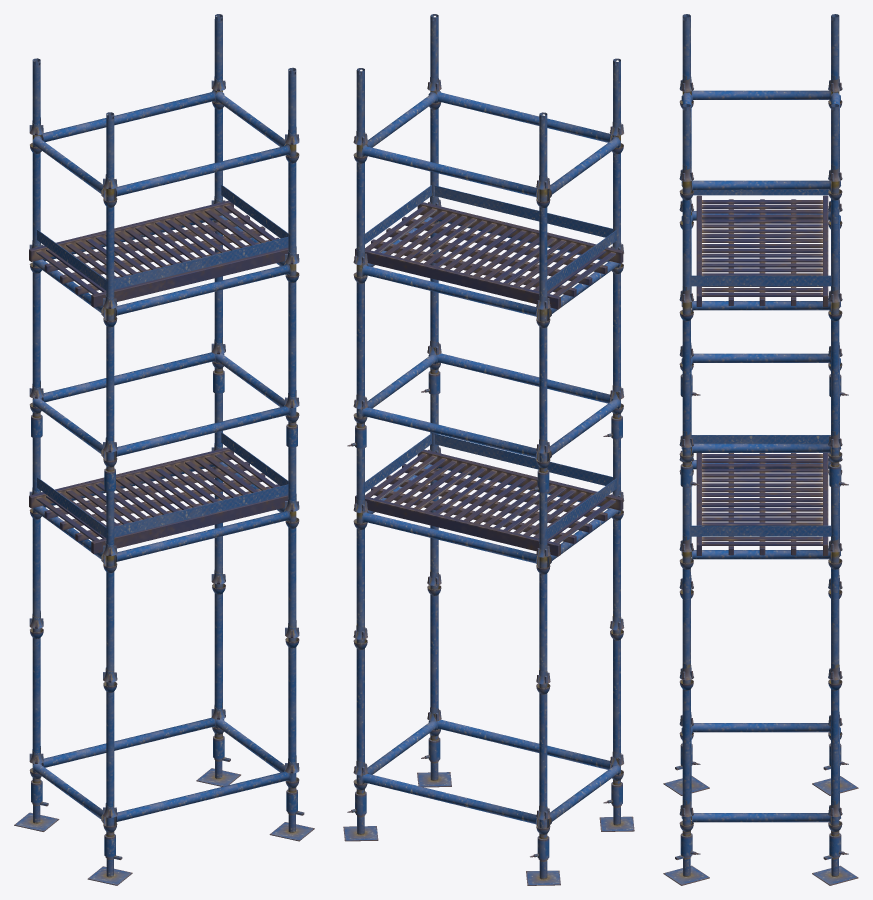
The model's file is Scaffold-01 (1).fbx.
The picture shows the model from 3 angles, left to right: view 1: azimuth 30°, elevation 25°; view 2: azimuth 150°, elevation 25°; view 3: azimuth 270°, elevation 25°; orthographic projection.
Parts seen in each view (by area): view 1: Scaffold Floor.001, Scaffold Floor, Scaffold_vertical bar.021, Scaffold_vertical bar.023, Scaffold_vertical bar.001, Scaffold_vertical bar.004, Scaffold_vertical bar.007, Scaffold_vertical bar.025, Scaffold_vertical bar.010, Scaffold_vertical bar.027, Toe Board, Toe Board.003 (+22 smaller); view 2: Scaffold Floor.001, Scaffold Floor, Scaffold_vertical bar.025, Scaffold_vertical bar.027, Scaffold_vertical bar.007, Scaffold_vertical bar.010, Scaffold_vertical bar.021, Scaffold_vertical bar.001, Scaffold_vertical bar.004, Scaffold_vertical bar.023, Toe Board.003, Toe Board (+22 smaller); view 3: Scaffold Floor.001, Scaffold Floor, Scaffold_vertical bar.027, Scaffold_vertical bar.023, Scaffold_vertical bar.010, Scaffold_vertical bar.004, Toe Board.004, Toe Board.002, Scaffold_horizontal bar.014, Scaffold_horizontal bar.012, Scaffold_horizontal bar.002, Scaffold_horizontal bar.010 (+13 smaller).
Part boxes in pixels (x1,y1,x2,y2): Scaffold Floor.001: (29, 200, 288, 307); Scaffold Floor: (29, 447, 288, 553); Scaffold_vertical bar.021: (103, 112, 117, 491); Scaffold_vertical bar.023: (285, 67, 299, 447); Scaffold_vertical bar.001: (103, 491, 117, 857); Scaffold_vertical bar.004: (285, 447, 299, 812); Scaffold_vertical bar.007: (29, 437, 43, 803); Scaffold_vertical bar.025: (29, 58, 42, 438); Scaffold_vertical bar.010: (212, 393, 225, 759); Scaffold_vertical bar.027: (212, 14, 224, 393); Toe Board: (114, 484, 288, 537); Toe Board.003: (114, 237, 288, 289); Scaffold Floor.001: (355, 202, 623, 309); Scaffold Floor: (355, 449, 623, 556); Scaffold_vertical bar.025: (530, 112, 550, 493); Scaffold_vertical bar.027: (347, 68, 367, 448); Scaffold_vertical bar.007: (530, 492, 550, 859); Scaffold_vertical bar.010: (347, 448, 367, 814); Scaffold_vertical bar.021: (603, 58, 623, 439); Scaffold_vertical bar.001: (603, 438, 623, 805); Scaffold_vertical bar.004: (421, 394, 441, 760); Scaffold_vertical bar.023: (421, 14, 441, 394); Toe Board.003: (434, 185, 613, 237); Toe Board: (434, 434, 613, 485); Scaffold Floor.001: (696, 195, 828, 306); Scaffold Floor: (696, 453, 828, 555); Scaffold_vertical bar.027: (828, 104, 848, 487); Scaffold_vertical bar.023: (679, 104, 700, 487); Scaffold_vertical bar.010: (828, 487, 848, 856); Scaffold_vertical bar.004: (679, 487, 700, 856); Toe Board.004: (690, 275, 831, 286); Toe Board.002: (690, 525, 831, 536); Scaffold_horizontal bar.014: (691, 180, 831, 193); Scaffold_horizontal bar.012: (691, 90, 831, 101); Scaffold_horizontal bar.002: (691, 813, 831, 824); Scaffold_horizontal bar.010: (691, 443, 831, 455).
Bounding box in the file's own units: 236 × 773 × 177.
Materials: 2 (2 with a texture image).
